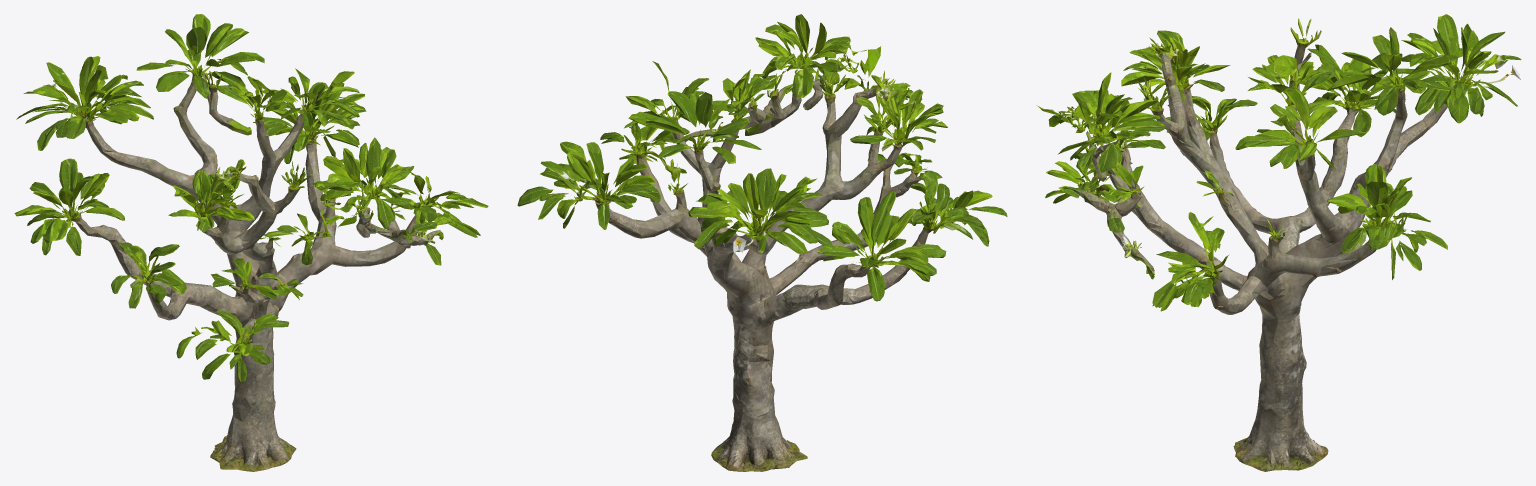
The model's file is w3frangipani.glb.
The picture shows the model from 3 angles, left to right: view 1: azimuth 30°, elevation 25°; view 2: azimuth 150°, elevation 25°; view 3: azimuth 270°, elevation 25°; orthographic projection. The views are drawn at different scales.
Parts seen in each view (by area): view 1: output_unwrapped; view 2: output_unwrapped; view 3: output_unwrapped.
Boxes of the visible parts, <box> form: output_unwrapped: <box>14,14,488,471</box>; output_unwrapped: <box>517,14,1007,471</box>; output_unwrapped: <box>1036,14,1521,471</box>.
Size of the model in its own units: 4.87 by 4.6 by 4.79.
1 material, 1 textured.
